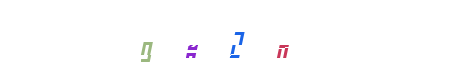2: (197, 0, 277, 80)
G: (125, 0, 205, 80)
N: (197, 0, 277, 80)
X: (185, 0, 265, 80)
